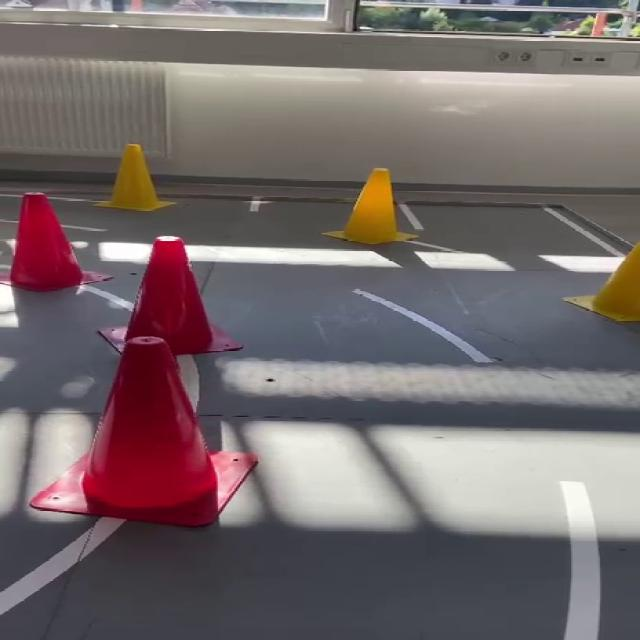Cone-red: (30, 337, 257, 526), (126, 237, 239, 355), (8, 193, 106, 292)
Cones-yellow: (324, 168, 417, 244), (564, 242, 639, 322), (97, 144, 174, 211)
